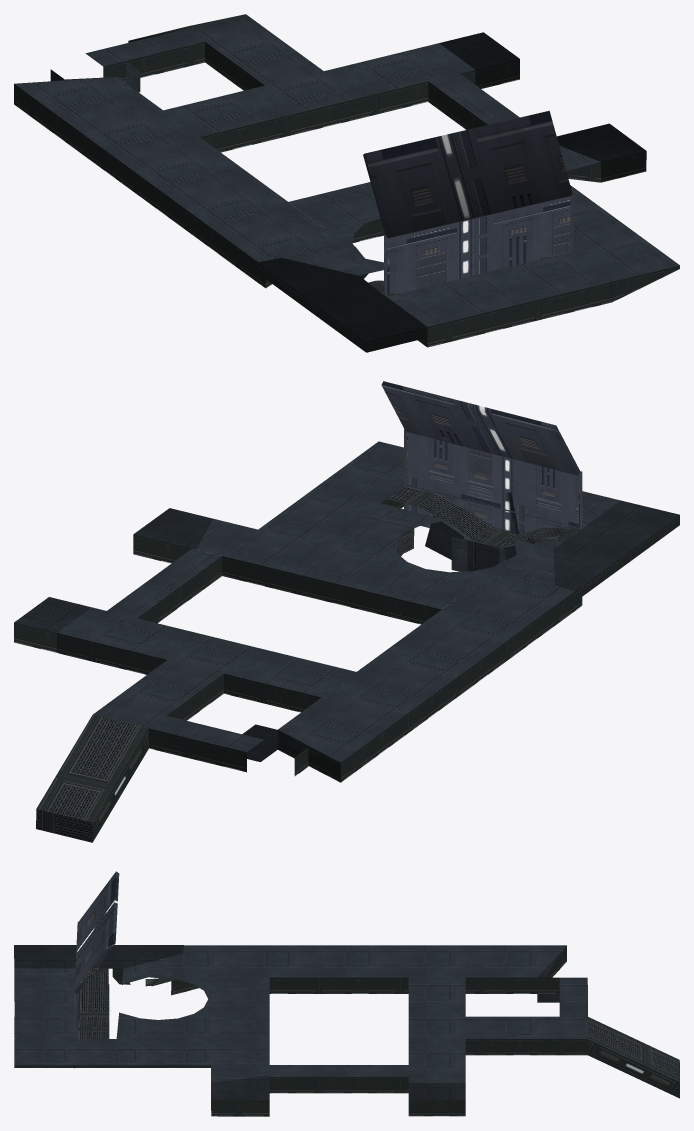
File: bldg_lab_plat.gltf
3 views of the same model, one above another, from view 1: azimuth 30°, elevation 25°; view 2: azimuth 150°, elevation 25°; view 3: azimuth 270°, elevation 25° (orthographic). The views are drawn at different scales.
Parts seen in each view (by area): view 1: lab_plat, lab_plat1, cube165, lab_plat_small_wall; view 2: lab_plat, lab_plat1, lab_plat_small_wall, cube165, lab_plat_double_ramp, cube151, cube152, polymsh_detached1; view 3: lab_plat, lab_plat1, cube165, lab_plat_double_ramp.
Part boxes in pixels (x1,y1,x2,y2): lab_plat: (14, 14, 519, 288); lab_plat1: (258, 123, 679, 352); cube165: (363, 110, 572, 238); lab_plat_small_wall: (384, 194, 573, 296); lab_plat: (14, 548, 582, 842); lab_plat1: (133, 441, 679, 624); lab_plat_small_wall: (404, 429, 582, 545); cube165: (381, 381, 580, 475); lab_plat_double_ramp: (387, 486, 579, 548); cube151: (451, 534, 518, 571); cube152: (425, 502, 482, 560); polymsh_detached1: (242, 724, 277, 761); lab_plat: (165, 945, 679, 1116); lab_plat1: (14, 945, 269, 1116); cube165: (74, 871, 119, 994); lab_plat_double_ramp: (78, 968, 108, 1038).
Size of the model in its own units: 40.89 by 19.37 by 74.1.
Materials: 4 (4 with a texture image).
